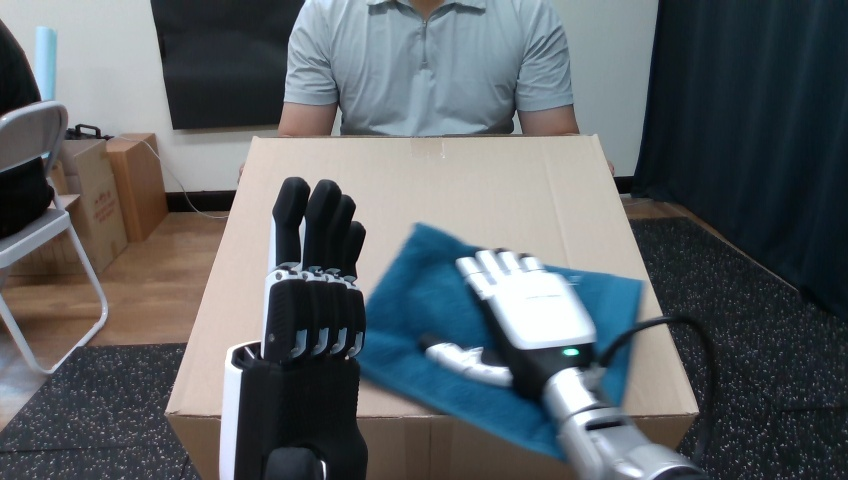left robot hand: (421, 249, 705, 479), (220, 177, 366, 479)
